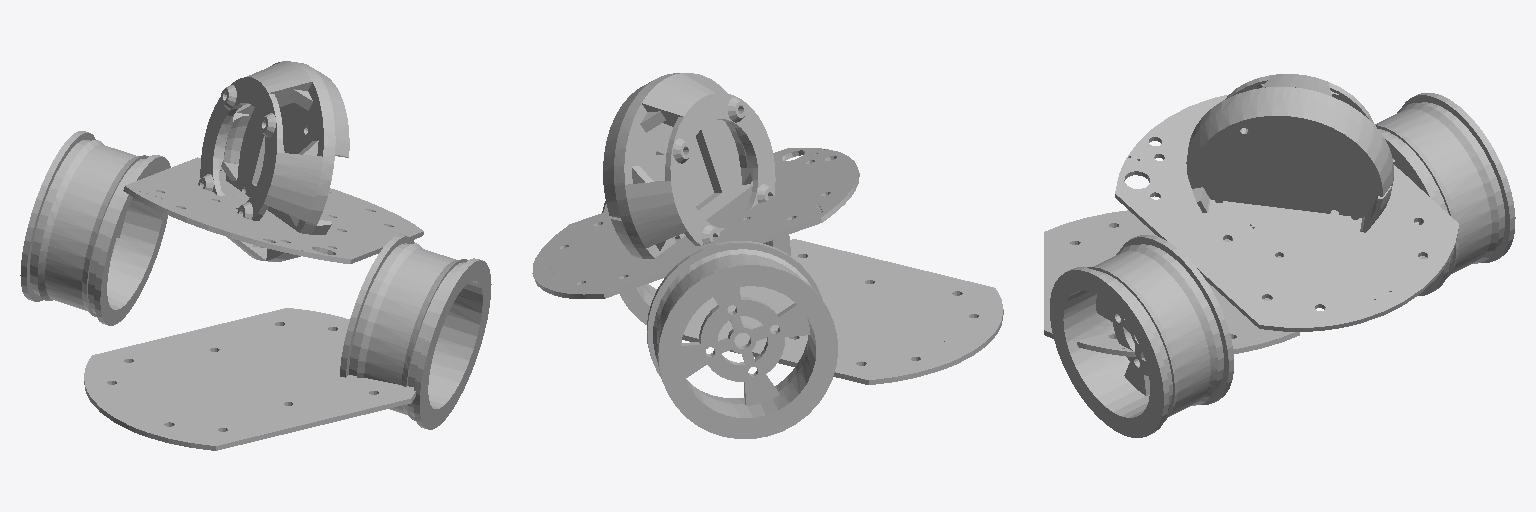
URDF robot description (装配体2.SLDASM):
<?xml version="1.0" encoding="utf-8"?>
<!-- This URDF was automatically created by SolidWorks to URDF Exporter! Originally created by [author] ([email redacted]) 
     Commit Version: 1.5.1-0-g916b5db  Build Version: 1.5.7152.31018
     For more information, please see http://wiki.ros.org/sw_urdf_exporter -->
<robot
  name="装配体2.SLDASM">
  <link
    name="base_link">
    <inertial>
      <origin
        xyz="0.01937 0.014215 -0.031766"
        rpy="0 0 0" />
      <mass
        value="0.05348" />
      <inertia
        ixx="1.9037E-05"
        ixy="9.0913E-07"
        ixz="8.2924E-06"
        iyy="1.9739E-05"
        iyz="-2.6249E-06"
        izz="2.2591E-05" />
    </inertial>
    <visual>
      <origin
        xyz="0 0 0"
        rpy="0 0 0" />
      <geometry>
        <mesh
          filename="package://装配体2.SLDASM/meshes/base_link.STL" />
      </geometry>
      <material
        name="">
        <color
          rgba="0.75294 0.75294 0.75294 1" />
      </material>
    </visual>
    <collision>
      <origin
        xyz="0 0 0"
        rpy="0 0 0" />
      <geometry>
        <mesh
          filename="package://装配体2.SLDASM/meshes/base_link.STL" />
      </geometry>
    </collision>
  </link>
  <link
    name="L_Wheel_Link">
    <inertial>
      <origin
        xyz="0.000463862335734803 -3.46944695195361E-18 0"
        rpy="0 0 0" />
      <mass
        value="0.0179804452244831" />
      <inertia
        ixx="8.63535084652758E-06"
        ixy="0"
        ixz="8.470329472543E-22"
        iyy="5.3047571295336E-06"
        iyz="6.74979379843271E-22"
        izz="5.3047571295336E-06" />
    </inertial>
    <visual>
      <origin
        xyz="0 0 0"
        rpy="0 0 0" />
      <geometry>
        <mesh
          filename="package://装配体2.SLDASM/meshes/L_Wheel_Link.STL" />
      </geometry>
      <material
        name="">
        <color
          rgba="0.752941176470588 0.752941176470588 0.752941176470588 1" />
      </material>
    </visual>
    <collision>
      <origin
        xyz="0 0 0"
        rpy="0 0 0" />
      <geometry>
        <mesh
          filename="package://装配体2.SLDASM/meshes/L_Wheel_Link.STL" />
      </geometry>
    </collision>
  </link>
  <joint
    name="L_Wheel_Joint"
    type="fixed">
    <origin
      xyz="0.051368 -0.0087694 0.0078864"
      rpy="1.2801 0.15409 -0.91224" />
    <parent
      link="base_link" />
    <child
      link="L_Wheel_Link" />
    <axis
      xyz="0 0 0" />
  </joint>
  <link
    name="R_Wheel_Link">
    <inertial>
      <origin
        xyz="0.000463862335734824 -6.93889390390723E-18 -1.04083408558608E-17"
        rpy="0 0 0" />
      <mass
        value="0.0179804452244832" />
      <inertia
        ixx="8.63535084652759E-06"
        ixy="-3.4410713482206E-22"
        ixz="-6.35274710440725E-22"
        iyy="5.30475712953361E-06"
        iyz="5.69100261436483E-22"
        izz="5.30475712953361E-06" />
    </inertial>
    <visual>
      <origin
        xyz="0 0 0"
        rpy="0 0 0" />
      <geometry>
        <mesh
          filename="package://装配体2.SLDASM/meshes/R_Wheel_Link.STL" />
      </geometry>
      <material
        name="">
        <color
          rgba="0.752941176470588 0.752941176470588 0.752941176470588 1" />
      </material>
    </visual>
    <collision>
      <origin
        xyz="0 0 0"
        rpy="0 0 0" />
      <geometry>
        <mesh
          filename="package://装配体2.SLDASM/meshes/R_Wheel_Link.STL" />
      </geometry>
    </collision>
  </link>
  <joint
    name="R_Wheel_Joint"
    type="fixed">
    <origin
      xyz="-0.011523 0.072507 0.023848"
      rpy="-1.2801 -0.15409 2.2294" />
    <parent
      link="base_link" />
    <child
      link="R_Wheel_Link" />
    <axis
      xyz="0 0 0" />
  </joint>
  <link
    name="Imu_Link">
    <inertial>
      <origin
        xyz="-1.66786113457856E-05 2.94635585590848E-05 0.0185293572913523"
        rpy="0 0 0" />
      <mass
        value="0.146517583349119" />
      <inertia
        ixx="0.000106561565461267"
        ixy="7.39273664502817E-08"
        ixz="-4.86277419580688E-08"
        iyy="0.000239273370617792"
        iyz="2.46677341491623E-07"
        izz="0.000232025790118781" />
    </inertial>
    <visual>
      <origin
        xyz="0 0 0"
        rpy="0 0 0" />
      <geometry>
        <mesh
          filename="package://装配体2.SLDASM/meshes/Imu_Link.STL" />
      </geometry>
      <material
        name="">
        <color
          rgba="0.752941176470588 0.752941176470588 0.752941176470588 1" />
      </material>
    </visual>
    <collision>
      <origin
        xyz="0 0 0"
        rpy="0 0 0" />
      <geometry>
        <mesh
          filename="package://装配体2.SLDASM/meshes/Imu_Link.STL" />
      </geometry>
    </collision>
  </link>
  <joint
    name="Imu_Joint"
    type="fixed">
    <origin
      xyz="0.027079 0.033205 0.037263"
      rpy="2.8509 0.15409 -0.91224" />
    <parent
      link="base_link" />
    <child
      link="Imu_Link" />
    <axis
      xyz="0 0 0" />
  </joint>
  <link
    name="Laser_Link">
    <inertial>
      <origin
        xyz="-0.0002667 -0.00093869 -0.00028765"
        rpy="0 0 0" />
      <mass
        value="0.020045" />
      <inertia
        ixx="6.0464E-06"
        ixy="4.204E-08"
        ixz="1.1728E-07"
        iyy="1.0842E-05"
        iyz="4.3064E-08"
        izz="6.0561E-06" />
    </inertial>
    <visual>
      <origin
        xyz="0 0 0"
        rpy="0 0 0" />
      <geometry>
        <mesh
          filename="package://装配体2.SLDASM/meshes/Laser_Link.STL" />
      </geometry>
      <material
        name="">
        <color
          rgba="0.75294 0.75294 0.75294 1" />
      </material>
    </visual>
    <collision>
      <origin
        xyz="0 0 0"
        rpy="0 0 0" />
      <geometry>
        <mesh
          filename="package://装配体2.SLDASM/meshes/Laser_Link.STL" />
      </geometry>
    </collision>
  </link>
  <joint
    name="Laser_Joint"
    type="fixed">
    <origin
      xyz="0.031612 0.034051 0.050811"
      rpy="1.8861 0.09187 1.4812" />
    <parent
      link="base_link" />
    <child
      link="Laser_Link" />
    <axis
      xyz="0 0 0" />
  </joint>
</robot>

--- What the picture shows (computed from the rendered views, not written in the file) ---
3 views of the same robot in one strip: view 1: azimuth 30°, elevation 25°; view 2: azimuth 150°, elevation 25°; view 3: azimuth 270°, elevation 25° (orthographic).
Model 装配体2.SLDASM with 5 links and 4 joints (4 fixed), rooted at base_link, posed every joint at zero.
Visible links, largest first — view 1: base_link, R_Wheel_Link, L_Wheel_Link, Laser_Link, Imu_Link; view 2: R_Wheel_Link, Laser_Link, base_link, Imu_Link, L_Wheel_Link; view 3: Imu_Link, L_Wheel_Link, Laser_Link, R_Wheel_Link, base_link.
Boxes of the visible links, x1,y1,x2,y2 form: base_link: (84, 308, 415, 450); R_Wheel_Link: (20, 131, 170, 325); L_Wheel_Link: (340, 234, 491, 429); Laser_Link: (198, 61, 349, 261); Imu_Link: (123, 157, 423, 263); R_Wheel_Link: (647, 241, 837, 438); Laser_Link: (603, 73, 775, 258); base_link: (682, 239, 1003, 384); Imu_Link: (532, 148, 859, 298); L_Wheel_Link: (602, 201, 790, 324); Imu_Link: (1115, 95, 1458, 331); L_Wheel_Link: (1050, 235, 1233, 437); Laser_Link: (1186, 74, 1393, 232); R_Wheel_Link: (1375, 93, 1515, 295); base_link: (1044, 210, 1299, 356).
Bounding box of the posed robot: 0.1301 × 0.1361 × 0.1011 m (x, y, z).
Meshes: 5 distinct files referenced, 5 mesh visuals loaded (5 binary STL).